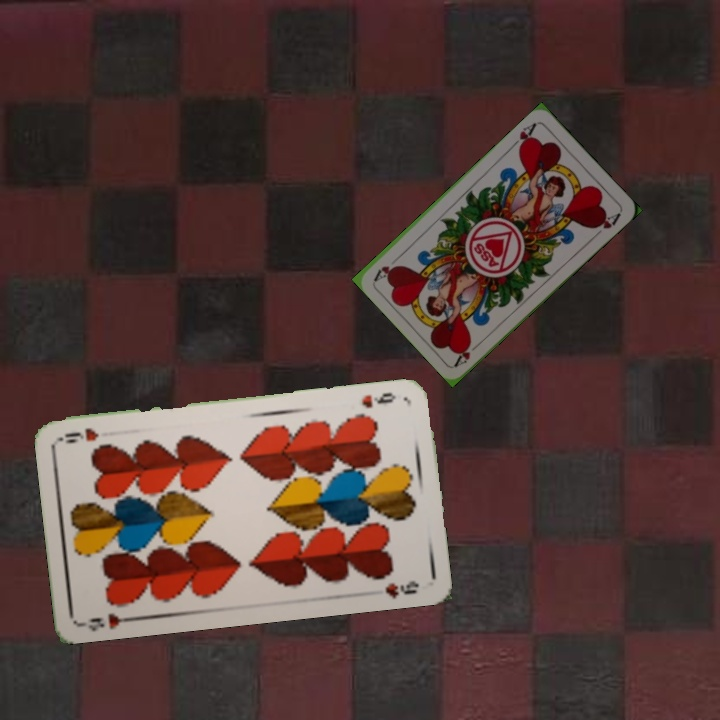H9: (79, 609, 138, 633), (357, 388, 398, 411)
HA: (507, 119, 539, 153), (451, 337, 485, 368)
